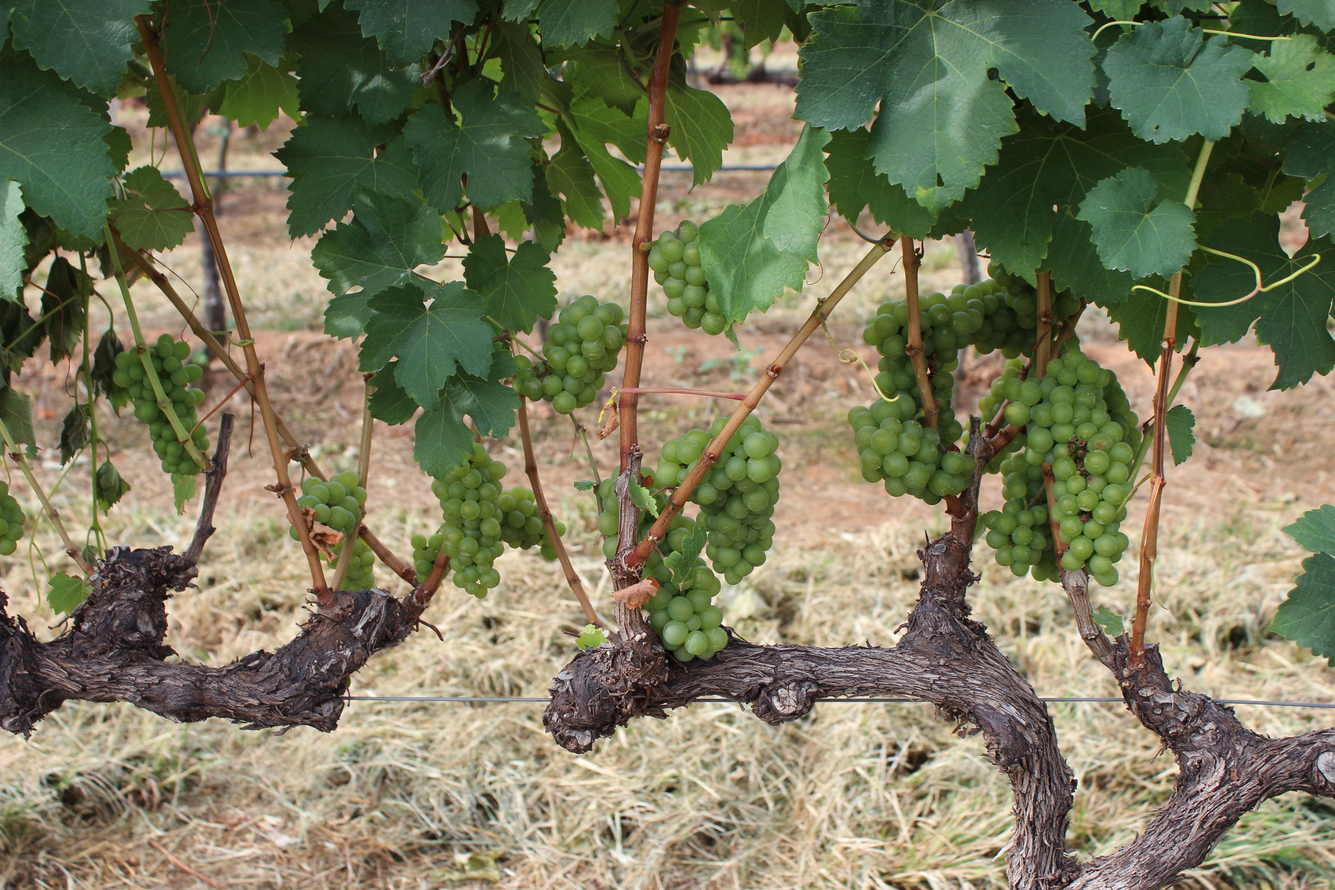leaf: (795, 0, 1094, 212), (961, 109, 1190, 284), (699, 125, 830, 327), (0, 54, 117, 243), (1103, 17, 1254, 143), (404, 79, 545, 210), (1196, 261, 1335, 389), (274, 116, 419, 237), (358, 282, 494, 409), (294, 0, 420, 125), (311, 189, 446, 298), (11, 0, 150, 96), (1077, 167, 1195, 278), (825, 127, 936, 239), (162, 0, 289, 93), (462, 234, 557, 332), (1043, 209, 1134, 310), (665, 61, 734, 186), (1209, 214, 1332, 283), (344, 0, 477, 63), (1247, 34, 1335, 123), (1269, 553, 1335, 665), (111, 165, 194, 251), (217, 54, 300, 129), (547, 124, 605, 231), (1283, 122, 1335, 237), (566, 45, 645, 115), (489, 21, 547, 102), (1109, 290, 1169, 367), (538, 0, 618, 47), (0, 180, 28, 301), (369, 361, 420, 425), (1282, 504, 1335, 554), (1193, 260, 1255, 302), (0, 385, 36, 448), (47, 573, 92, 614), (95, 460, 131, 511), (1165, 404, 1195, 465), (1277, 0, 1335, 31), (1175, 305, 1198, 351), (173, 474, 196, 514), (1080, 273, 1105, 281), (1077, 286, 1087, 295), (640, 127, 644, 145), (1064, 283, 1075, 286), (1067, 259, 1070, 270), (1067, 275, 1075, 279), (1156, 281, 1162, 285), (418, 282, 426, 284), (1126, 284, 1129, 288), (606, 140, 611, 141), (975, 232, 976, 236), (1183, 294, 1186, 295), (632, 158, 634, 159), (1054, 269, 1055, 271), (1161, 288, 1162, 289), (628, 156, 629, 156)
